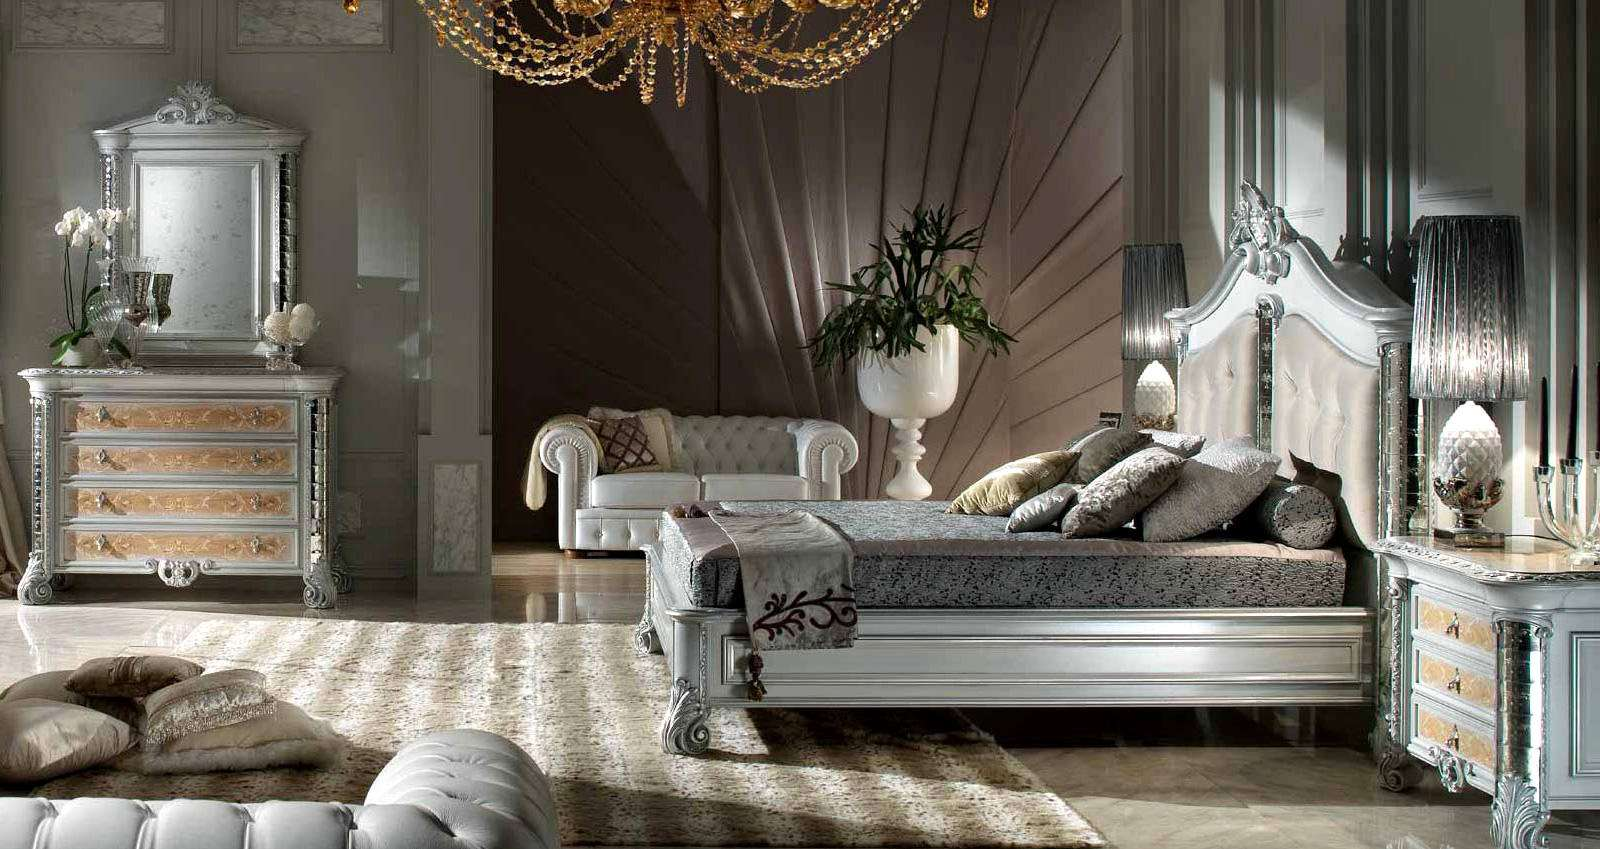床: (615, 495, 1368, 757)
枕头: (15, 656, 310, 799), (947, 434, 1314, 548)
灯: (411, 5, 917, 111), (1395, 213, 1537, 562), (349, 731, 549, 849), (1105, 241, 1194, 441)
